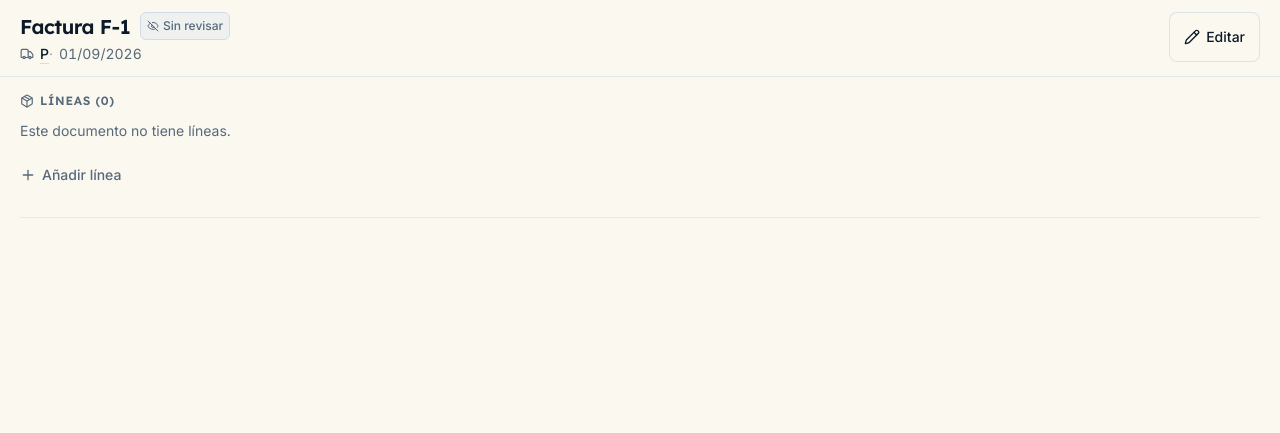
Test: FichaDocumento › Añadir línea › con permiso abre el formulario vacío y guarda con factura_id
Click the button "Añadir línea": (71,175) [8,153,133,197]
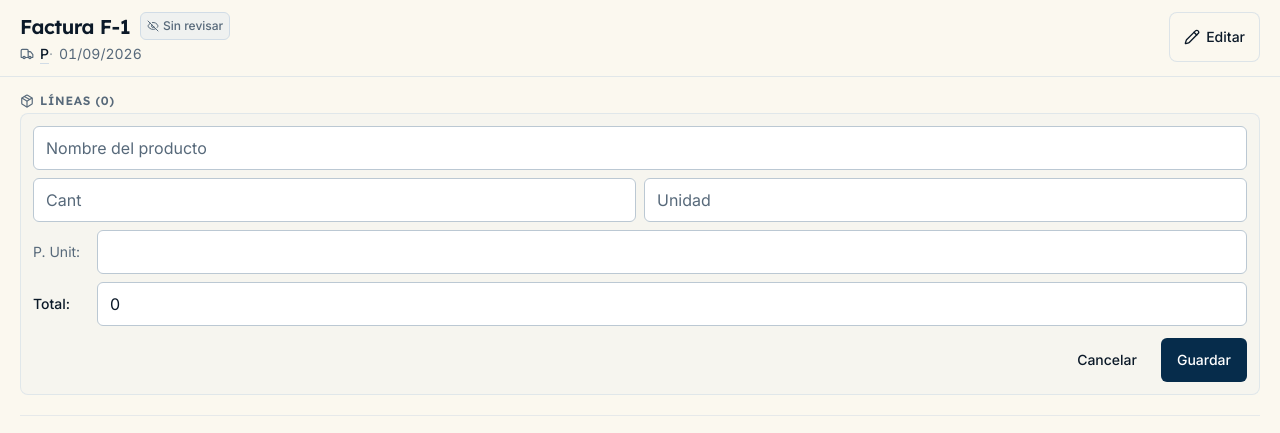
Expected: the field labelled "Nombre del producto" is empty
In the field labelled "Nombre del producto": (640,148) [33,126,1247,170], type "Sal fina"
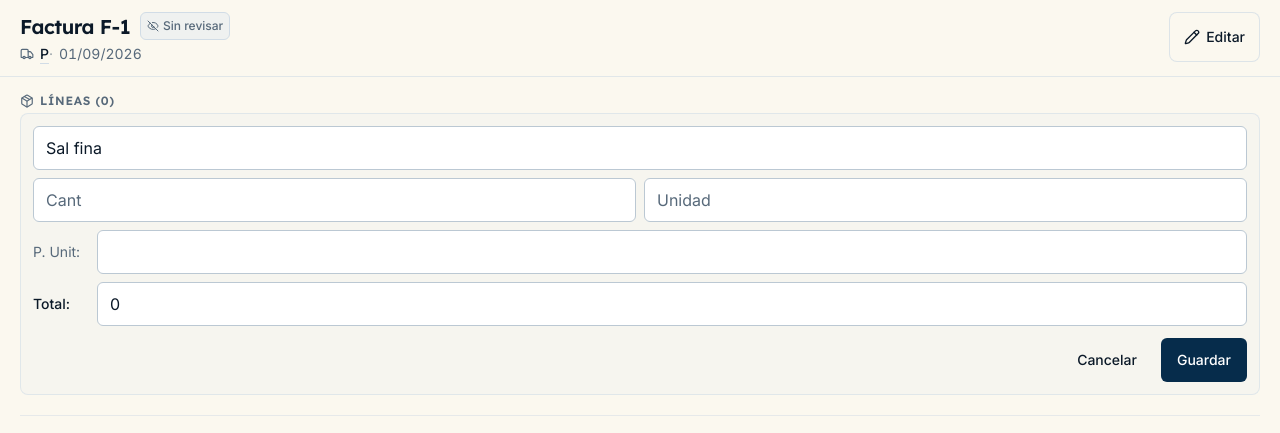
In the number field named "Cantidad": (334,200) [33,178,636,222], type "2"
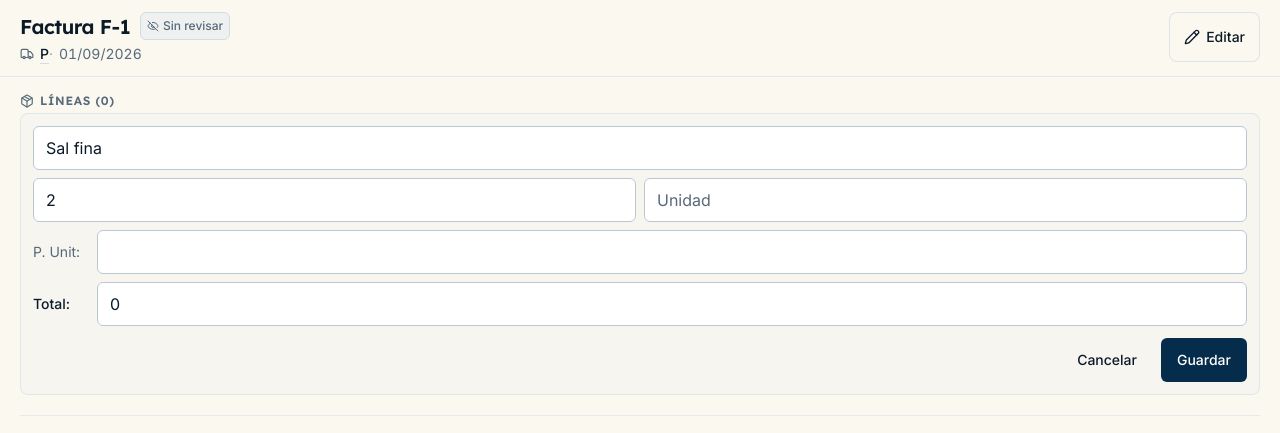
In the number field named "Precio unitario": (672,252) [97,230,1247,274], type "1.5"
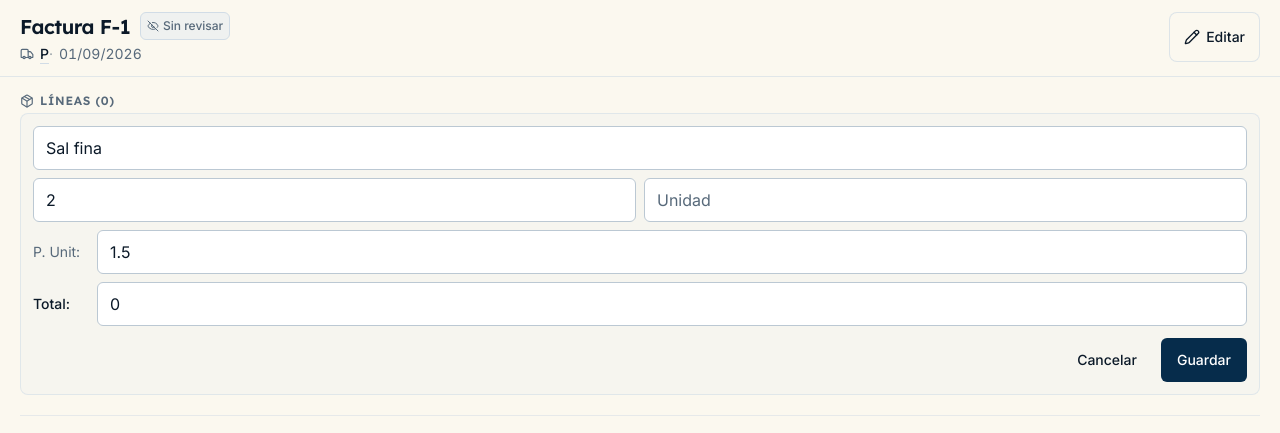
Replace the text in the number field named "Total" with "3": (672,304) [97,282,1247,326]
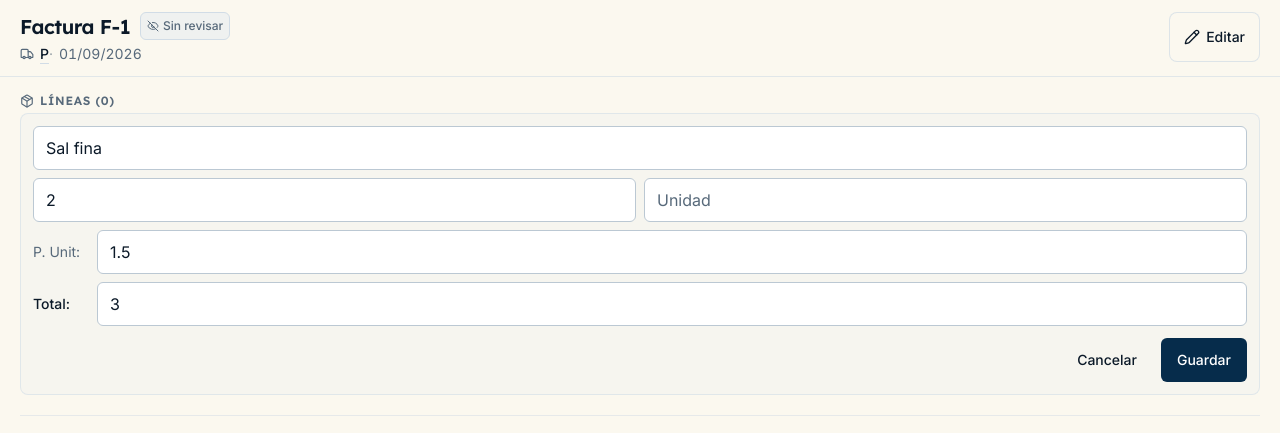
Click the button "Guardar": (1204,360) [1161,338,1247,382]
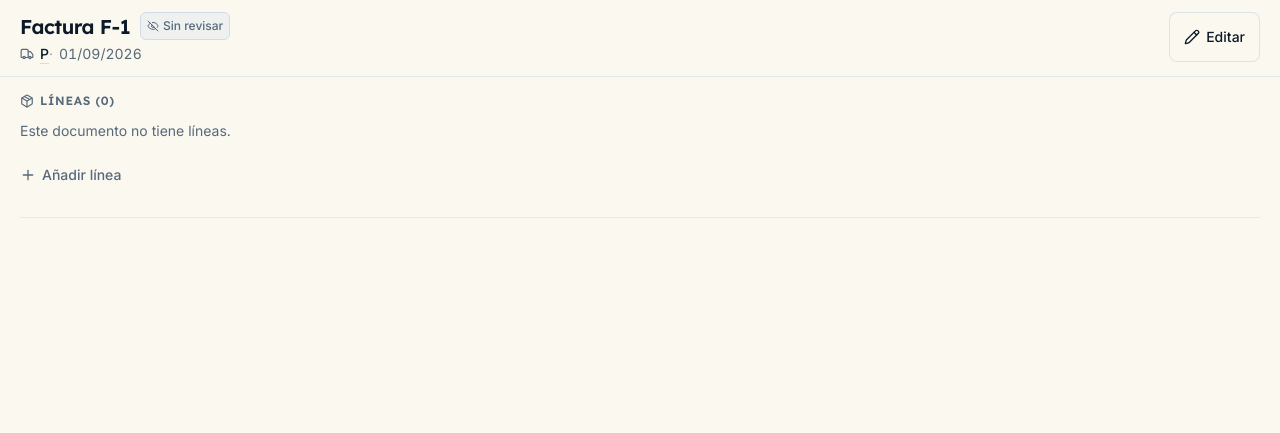
Expected: the button "Añadir línea" is shown, [8,153,133,197]
